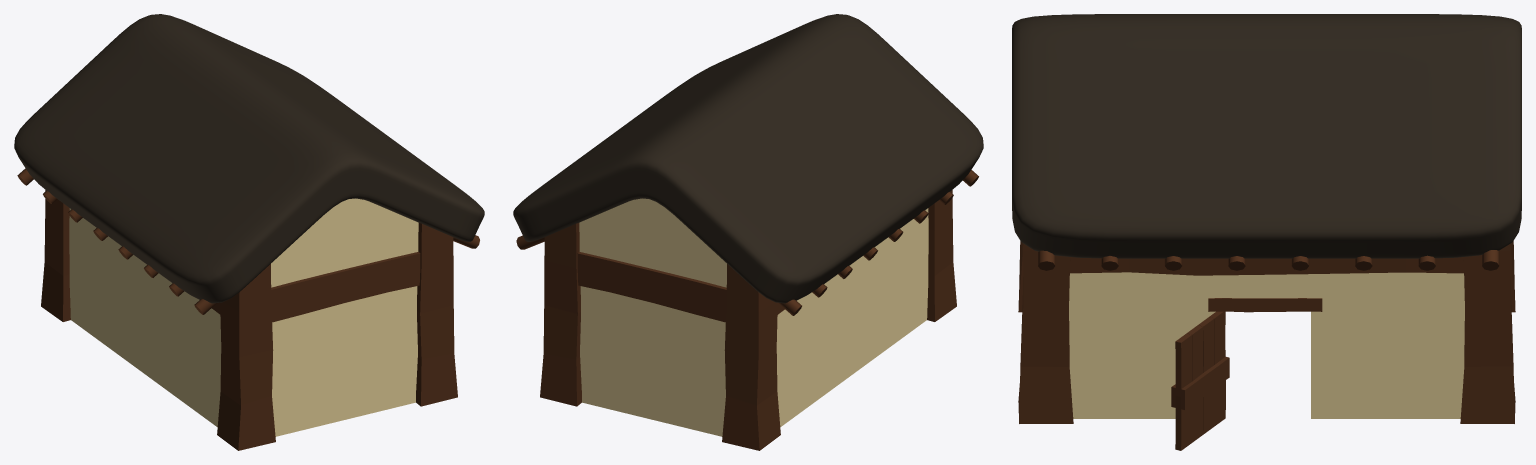
Rendered from house.glb.
3 renders of one model, left to right at view 1: azimuth 30°, elevation 25°; view 2: azimuth 150°, elevation 25°; view 3: azimuth 270°, elevation 25°, orthographic. The views are drawn at different scales.
Visible parts, largest first — view 1: Cube.001, Cube, Cube.002, Cube.003, Cylinder; view 2: Cube.001, Cube, Cube.002, Cube.003, Cylinder; view 3: Cube.001, Cube, Cube.002, Cube.004, door, Cylinder, Cube.005, door.003.
Boxes of the visible parts, x1,y1,x2,y2 form: Cube.001: (14, 14, 484, 303); Cube: (69, 198, 418, 436); Cube.002: (41, 190, 457, 450); Cube.003: (271, 252, 420, 322); Cylinder: (17, 168, 479, 314); Cube.001: (513, 14, 983, 303); Cube: (579, 198, 928, 436); Cube.002: (540, 190, 956, 450); Cube.003: (577, 252, 726, 322); Cylinder: (516, 170, 978, 315); Cube.001: (1012, 14, 1521, 258); Cube: (1069, 272, 1464, 418); Cube.002: (1018, 241, 1515, 423); Cube.004: (1070, 257, 1463, 275); door: (1175, 311, 1225, 450); Cylinder: (1038, 250, 1499, 270); Cube.005: (1208, 298, 1322, 312); door.003: (1181, 356, 1229, 409).
Size of what is drawn, in the model's own units: 7.51 by 6.35 by 8.68.
